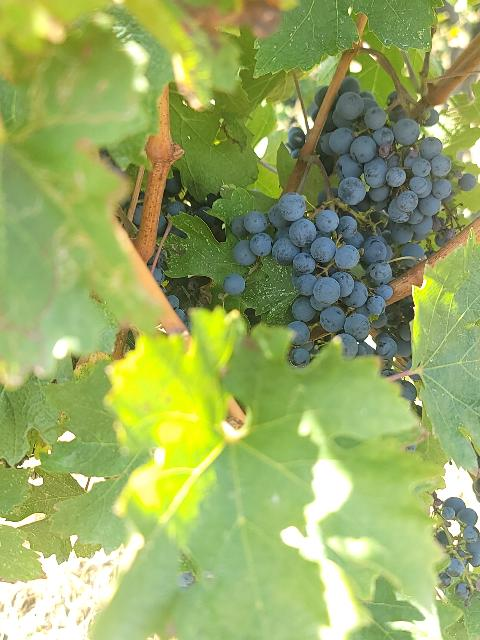grapes: (232, 192, 391, 366), (320, 76, 455, 245)
